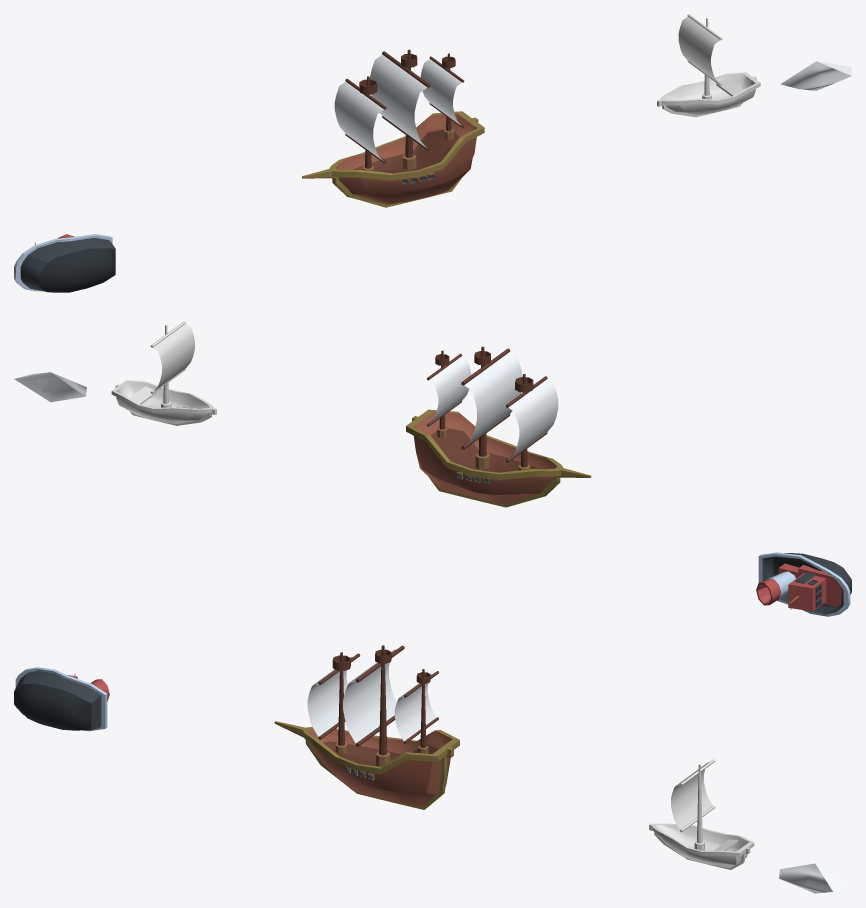
The model's file is vaporboat001.FBX.
3 renders of one model, top to bottom at view 1: azimuth 30°, elevation 25°; view 2: azimuth 150°, elevation 25°; view 3: azimuth 330°, elevation 25°, orthographic.
Visible parts, largest first — view 1: Galeon001, mediumboat001, Sailboat, Paperboat001; view 2: Galeon001, mediumboat001, Sailboat, Paperboat001; view 3: Galeon001, mediumboat001, Sailboat, Paperboat001.
Boxes of the visible parts, left/top/right/bottom form: Galeon001: left=302, top=49, right=484, bottom=207; mediumboat001: left=14, top=234, right=115, bottom=292; Sailboat: left=657, top=14, right=760, bottom=117; Paperboat001: left=780, top=61, right=851, bottom=90; Galeon001: left=406, top=346, right=591, bottom=507; mediumboat001: left=756, top=552, right=851, bottom=616; Sailboat: left=111, top=321, right=216, bottom=425; Paperboat001: left=14, top=372, right=86, bottom=402; Galeon001: left=274, top=645, right=459, bottom=809; mediumboat001: left=14, top=667, right=109, bottom=731; Sailboat: left=649, top=759, right=754, bottom=869; Paperboat001: left=779, top=863, right=851, bottom=893.
Size of the model in its own units: 2339 by 454 by 293.
